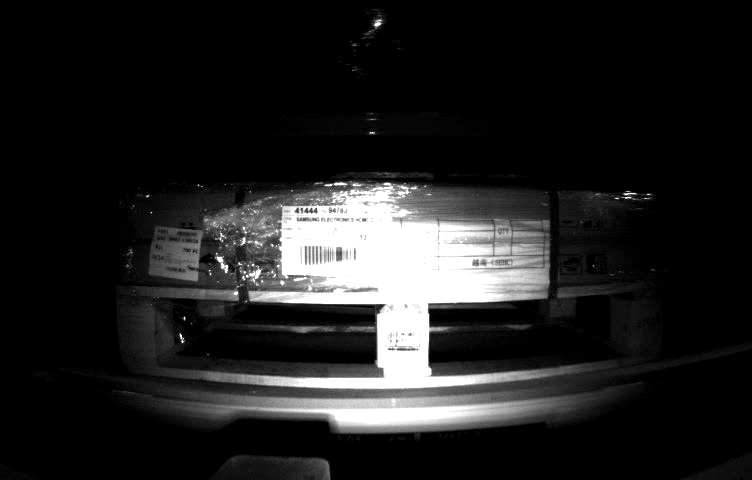True Barcode: (147, 223, 203, 284)
